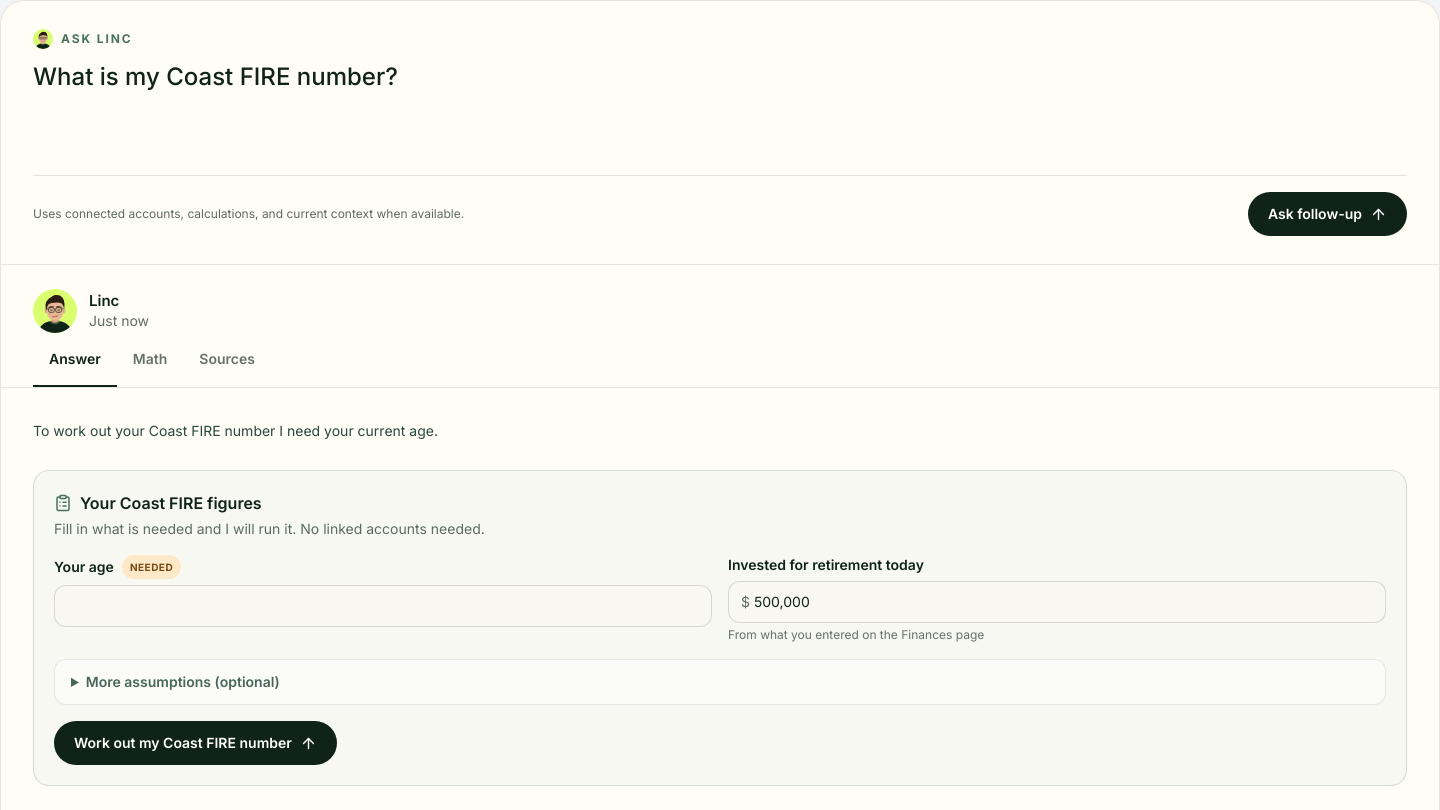
Scenario: FinanceQA decision workspace › a calculator waiting on figures › will not send until what is needed is there
Click the button "Work out my Coast FIRE number" at (195, 743), box [54,721,337,765]
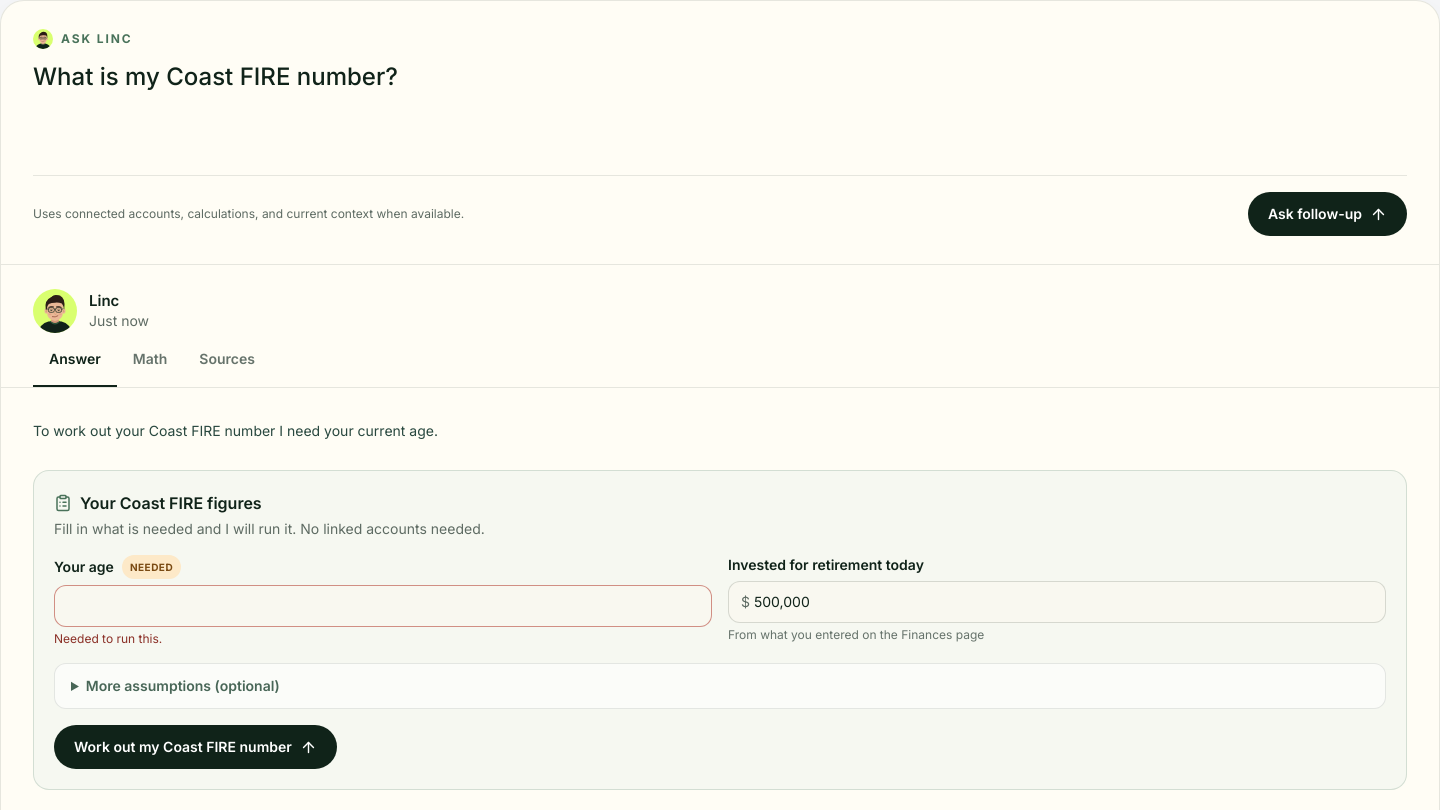
Expected: the text "Needed to run this." is shown, [54,631,162,646]
